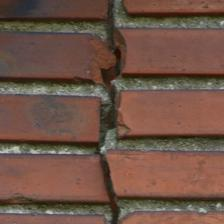Crack: (44, 15, 90, 208)
